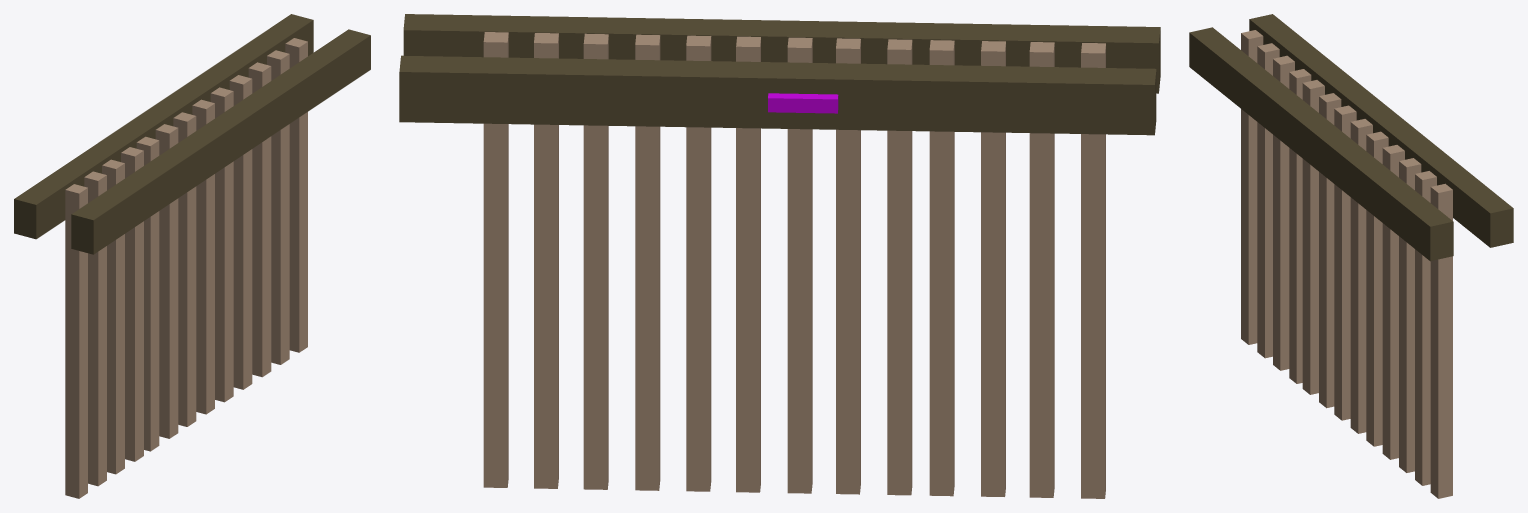
File: sm_gate1.fbx
3 views of the same model, side by side, from view 1: azimuth 30°, elevation 25°; view 2: azimuth 150°, elevation 25°; view 3: azimuth 270°, elevation 25° (orthographic). The views are drawn at different scales.
Parts seen in each view (by area): view 1: sm_GATE1_BODY, sm_GATE1_HOLDER; view 2: sm_GATE1_BODY, sm_GATE1_HOLDER, sm_GATE1_COLOR; view 3: sm_GATE1_BODY, sm_GATE1_HOLDER.
Boxes of the visible parts, x1,y1,x2,y2 form: sm_GATE1_BODY: (65,38,307,498); sm_GATE1_HOLDER: (14,14,370,254); sm_GATE1_BODY: (483,32,1105,498); sm_GATE1_HOLDER: (399,14,1160,135); sm_GATE1_COLOR: (768,93,838,113); sm_GATE1_BODY: (1241,30,1452,498); sm_GATE1_HOLDER: (1189,14,1513,261).
Bounding box in the file's own units: 1342 × 899 × 864.
